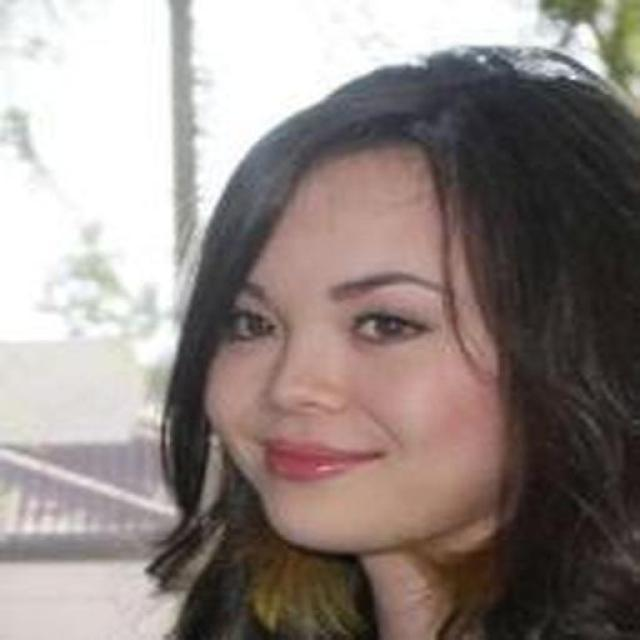bareface: (194, 84, 640, 540)
